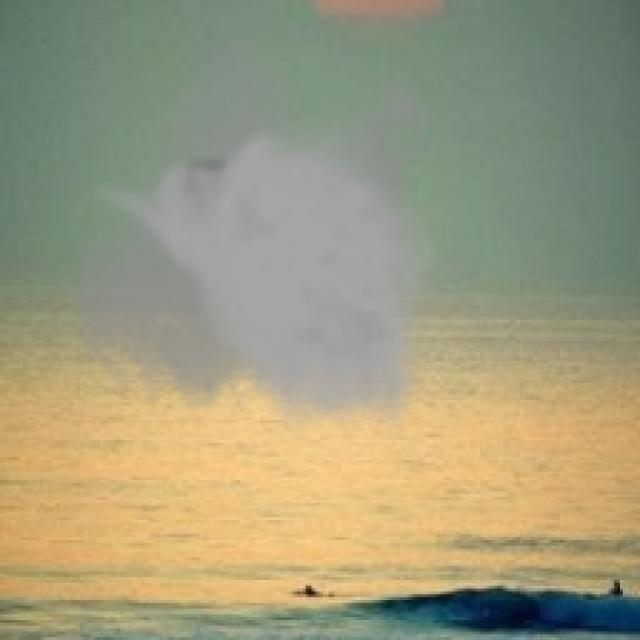Smoke: (68, 34, 440, 446)
